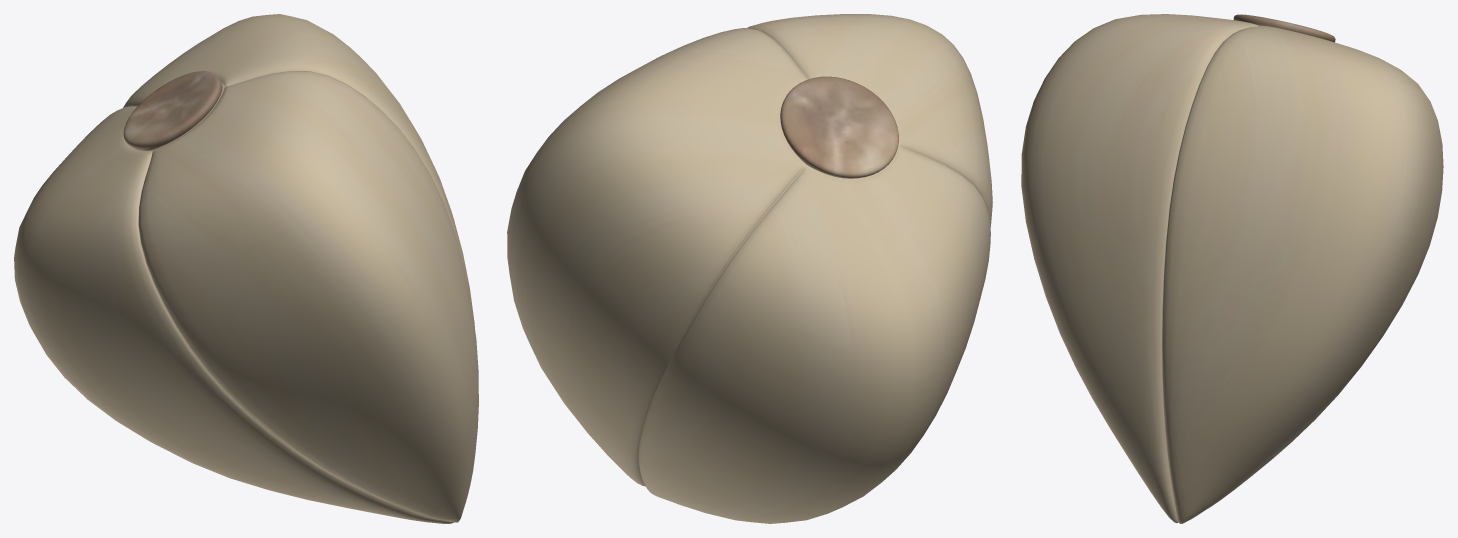
The model's file is GrainBuckwheat004.obj.
The picture shows the model from 3 angles, left to right: view 1: azimuth 30°, elevation 25°; view 2: azimuth 150°, elevation 25°; view 3: azimuth 270°, elevation 25°; orthographic projection. The views are drawn at different scales.
Visible parts, largest first — view 1: GrainBuckwheat004; view 2: GrainBuckwheat004; view 3: GrainBuckwheat004.
Boxes of the visible parts, bbox=[...] form: GrainBuckwheat004: bbox=[14, 14, 478, 523]; GrainBuckwheat004: bbox=[507, 14, 992, 523]; GrainBuckwheat004: bbox=[1021, 14, 1443, 523].
Size of the model in its own units: 0.026 by 0.0298 by 0.0263.
1 material, 1 textured.
